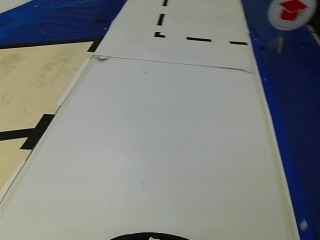school: (264, 0, 314, 34)
